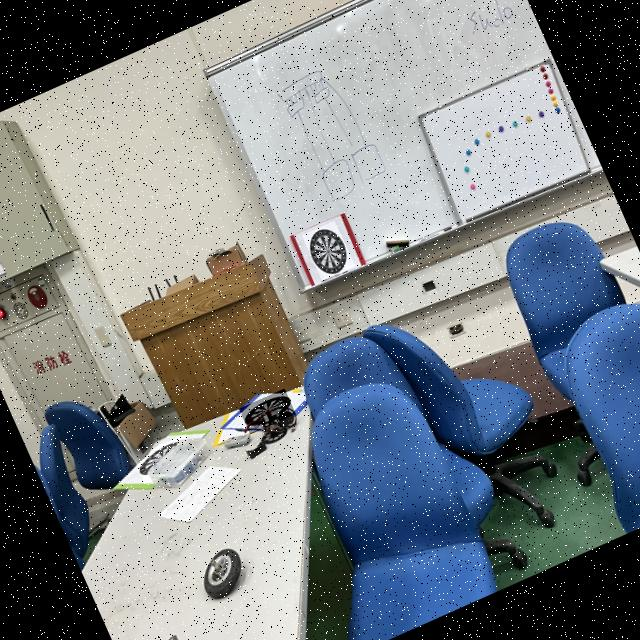archery-targets: (302, 220, 356, 280), (134, 434, 198, 484), (240, 388, 296, 434)
